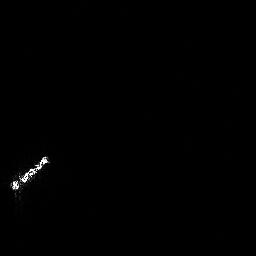ship: (5, 151, 53, 197)
